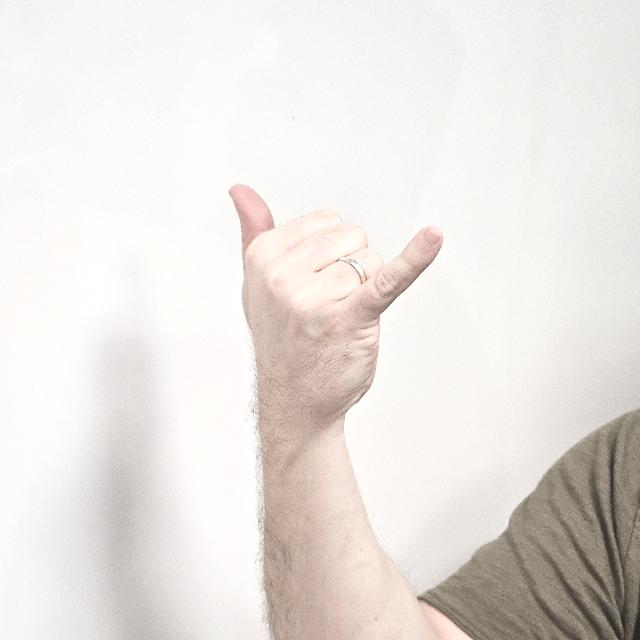Direita: (229, 172, 443, 476)
